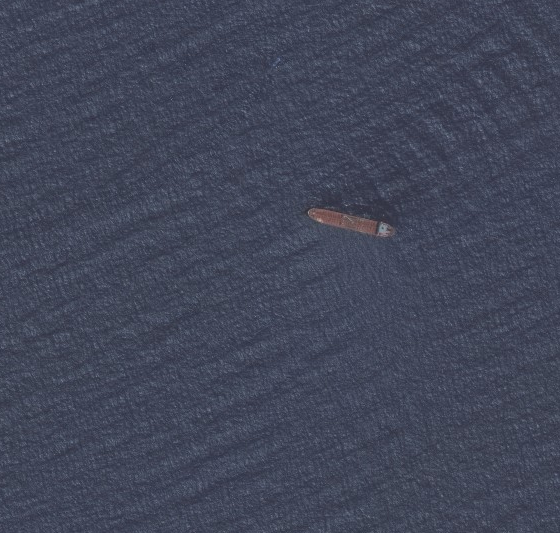ship: (302, 201, 404, 245)
